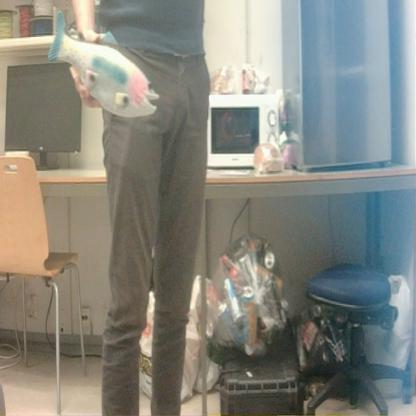rubberfish: (44, 2, 161, 127)
